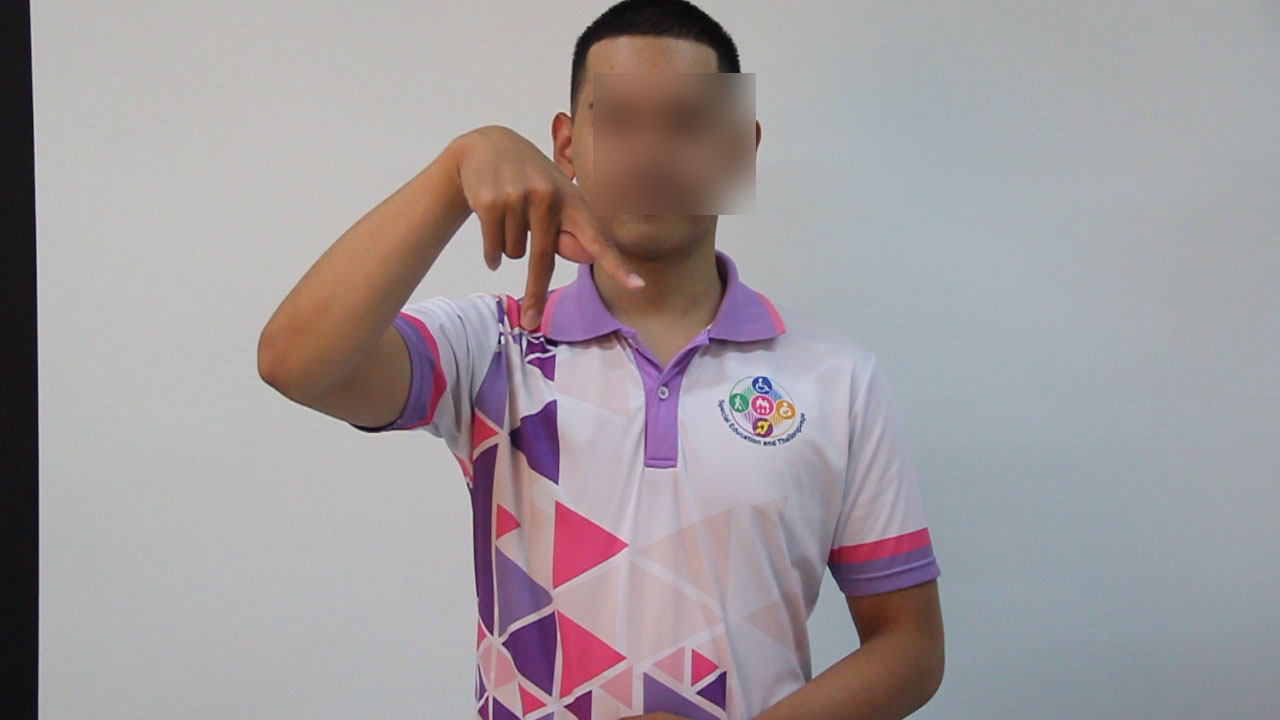por: (438, 111, 656, 339)
